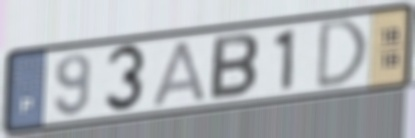1: (271, 26, 301, 93)
3: (99, 42, 153, 117)
9: (51, 51, 94, 118)
A: (150, 38, 209, 109)
B: (207, 31, 261, 103)
D: (313, 16, 370, 93)
